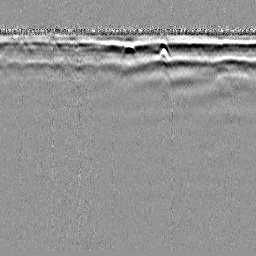cavity: (119, 40, 138, 58)
